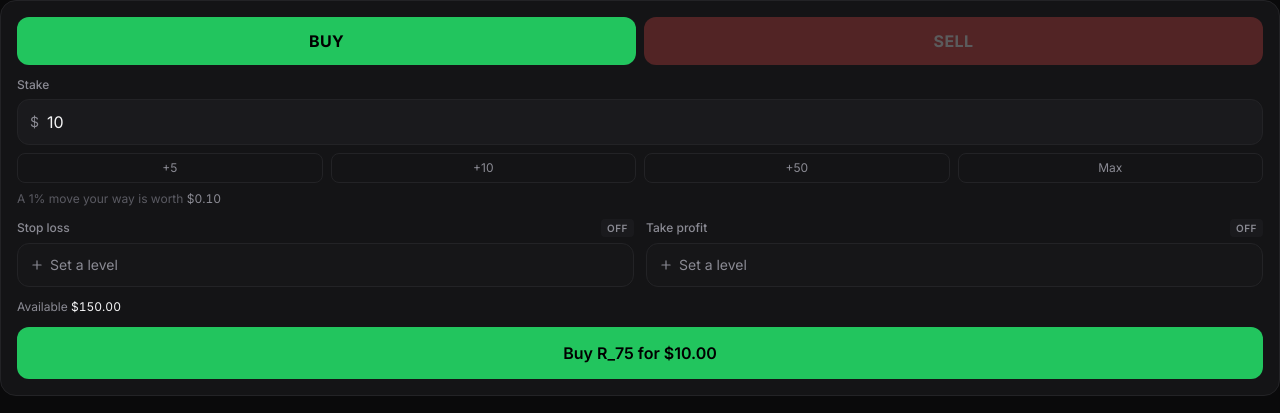
Test: OrderTicket › follows the direction toggle into the label
Click the button "sell": (954, 41) [644,17,1263,65]
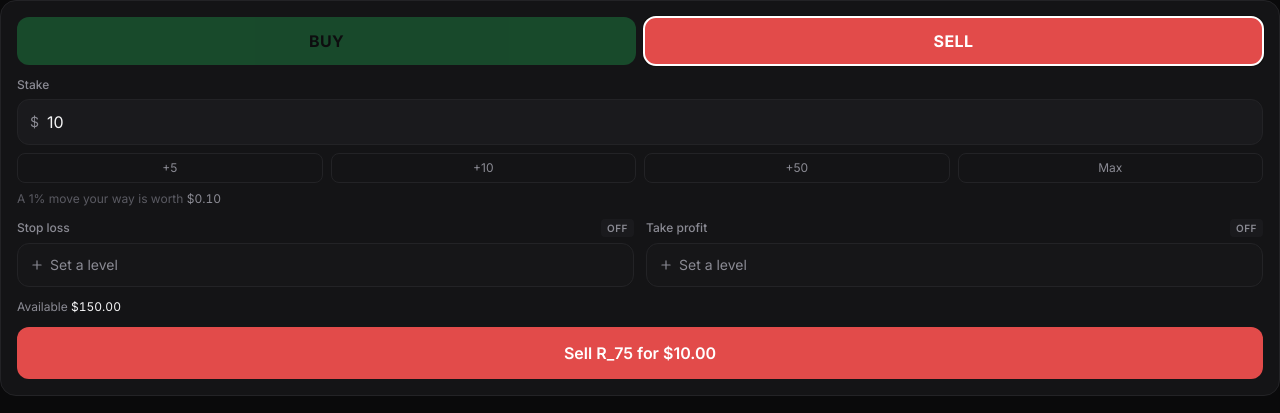
Check: the button "Sell R_75 for $10.00" is shown, box [17,327,1263,379]
